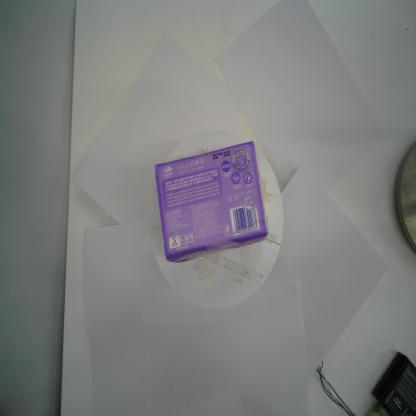Tissue: (152, 138, 269, 265)
